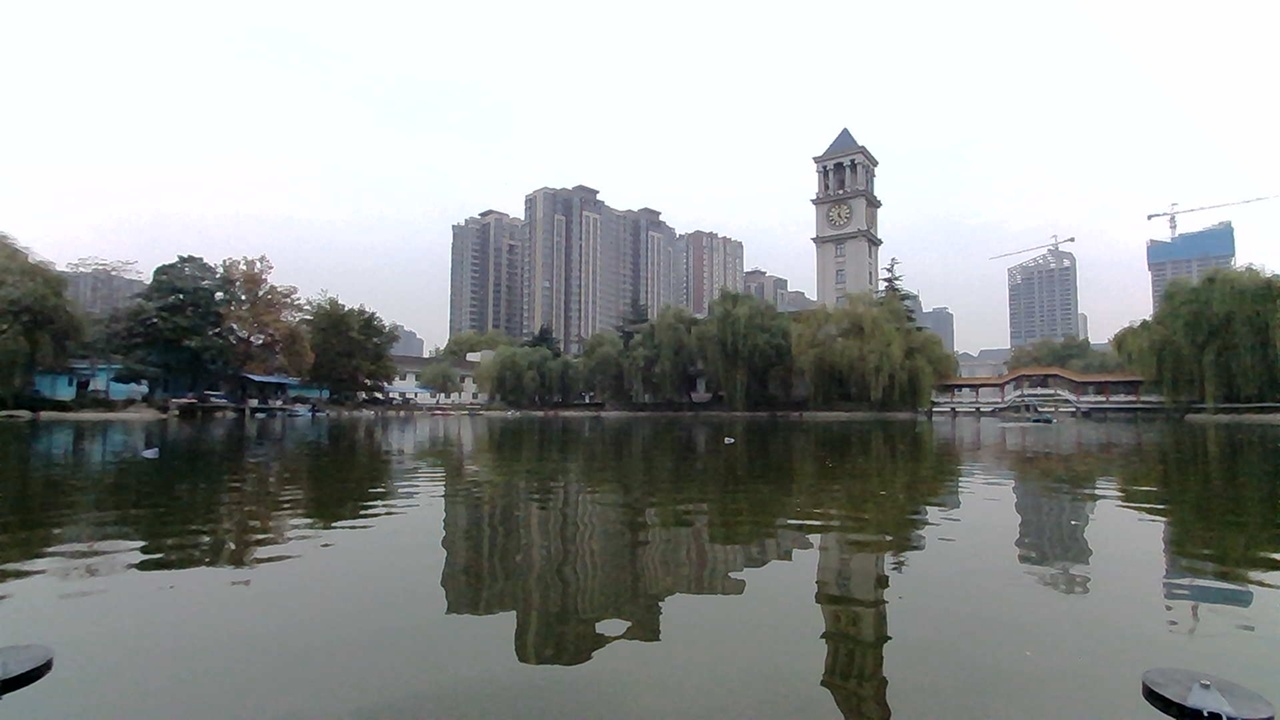bottle: (127, 434, 176, 471), (708, 420, 751, 449)
